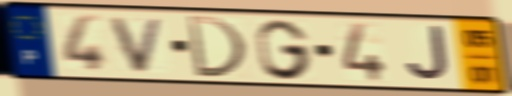4: (340, 20, 390, 84), (60, 12, 111, 74)
D: (183, 14, 250, 81)
G: (254, 17, 315, 82)
J: (404, 24, 453, 84)
V: (107, 15, 168, 75)
